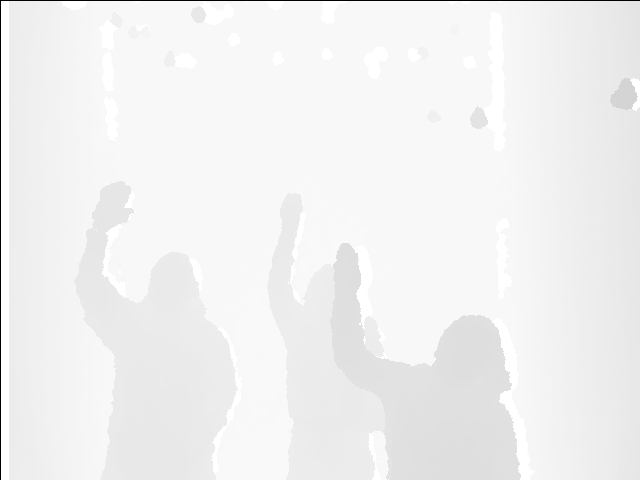hand: (96, 181, 135, 231), (335, 240, 363, 303), (279, 190, 307, 235)
